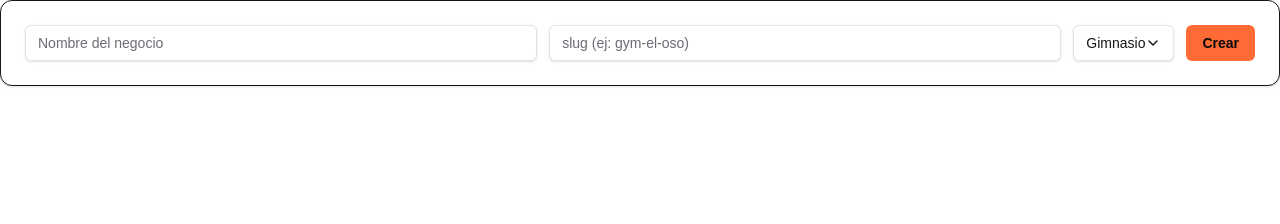
Test case: CrearNegocioForm (spec alta-negocio: rubro y disciplina) › ofrece los rubros vigentes (veterinaria ya no se ofrece, 2026-10-26)
What coordinates should you click on to do the following:
click the dropdown
I would click on:
 (1124, 43)
Its box is [1073,25,1174,61].
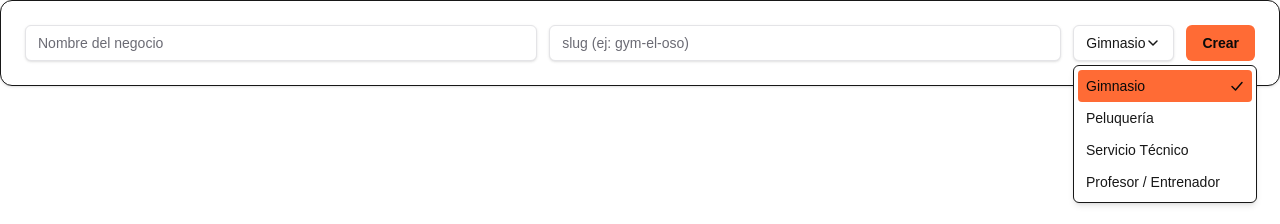
Check: the options read "Gimnasio", "Peluquería", "Servicio Técnico", "Profesor / Entrenador", in this order, box [1078,70,1252,102]; [1086,110,1154,126]; [1086,142,1188,158]; [1086,174,1220,190]
